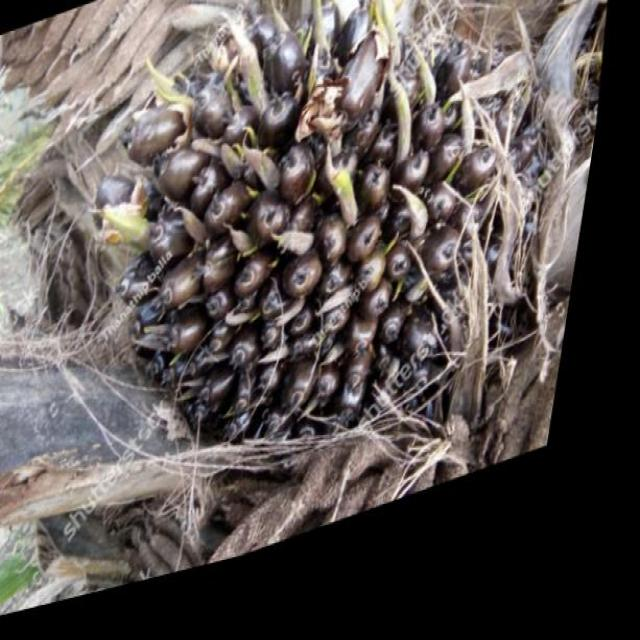Unripe: (40, 0, 608, 577)
